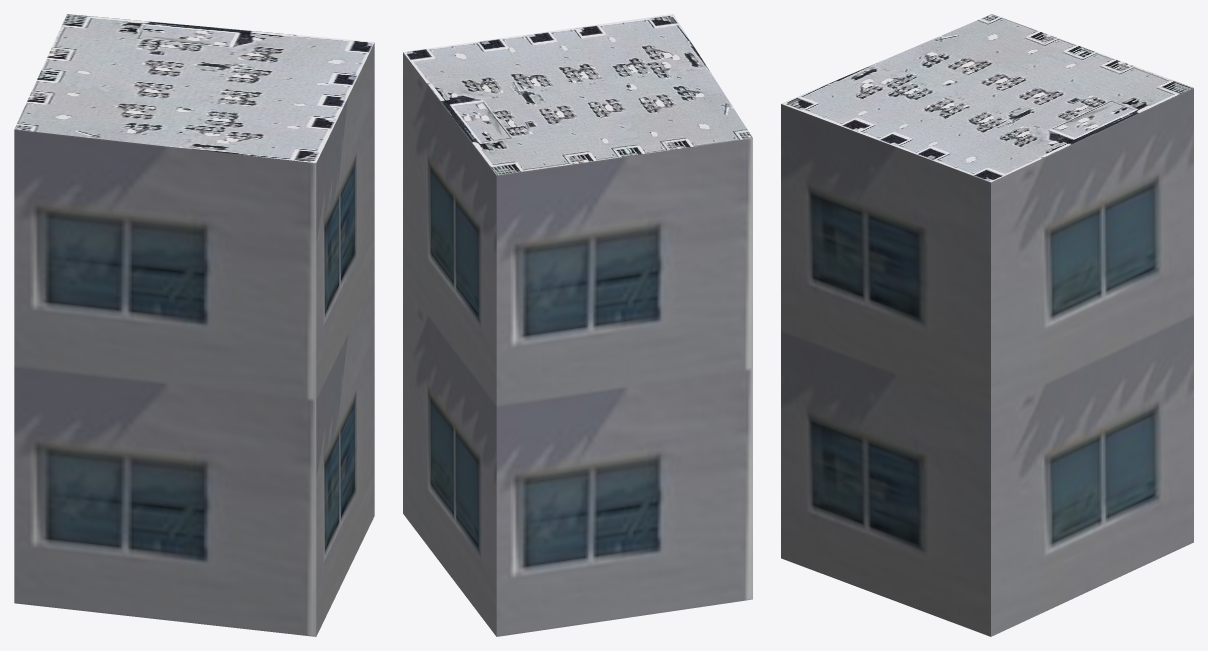
The model's file is ResTex__1762.fbx.
The picture shows the model from 3 angles, left to right: view 1: azimuth 30°, elevation 25°; view 2: azimuth 150°, elevation 25°; view 3: azimuth 270°, elevation 25°; orthographic projection. The views are drawn at different scales.
Parts seen in each view (by area): view 1: CityEngineMaterial_10_m, CityEngineMaterial_4_m; view 2: CityEngineMaterial_10_m, CityEngineMaterial_4_m; view 3: CityEngineMaterial_10_m, CityEngineMaterial_4_m.
Part boxes in pixels (box(x1,y1,x2,y2)): CityEngineMaterial_10_m: box(14, 43, 374, 636); CityEngineMaterial_4_m: box(14, 14, 374, 162); CityEngineMaterial_10_m: box(403, 52, 752, 636); CityEngineMaterial_4_m: box(403, 14, 752, 175); CityEngineMaterial_10_m: box(781, 88, 1193, 636); CityEngineMaterial_4_m: box(781, 14, 1193, 182).
Bounding box in the file's own units: 4.77 × 6 × 4.94.
Materials: 2 (2 with a texture image).
